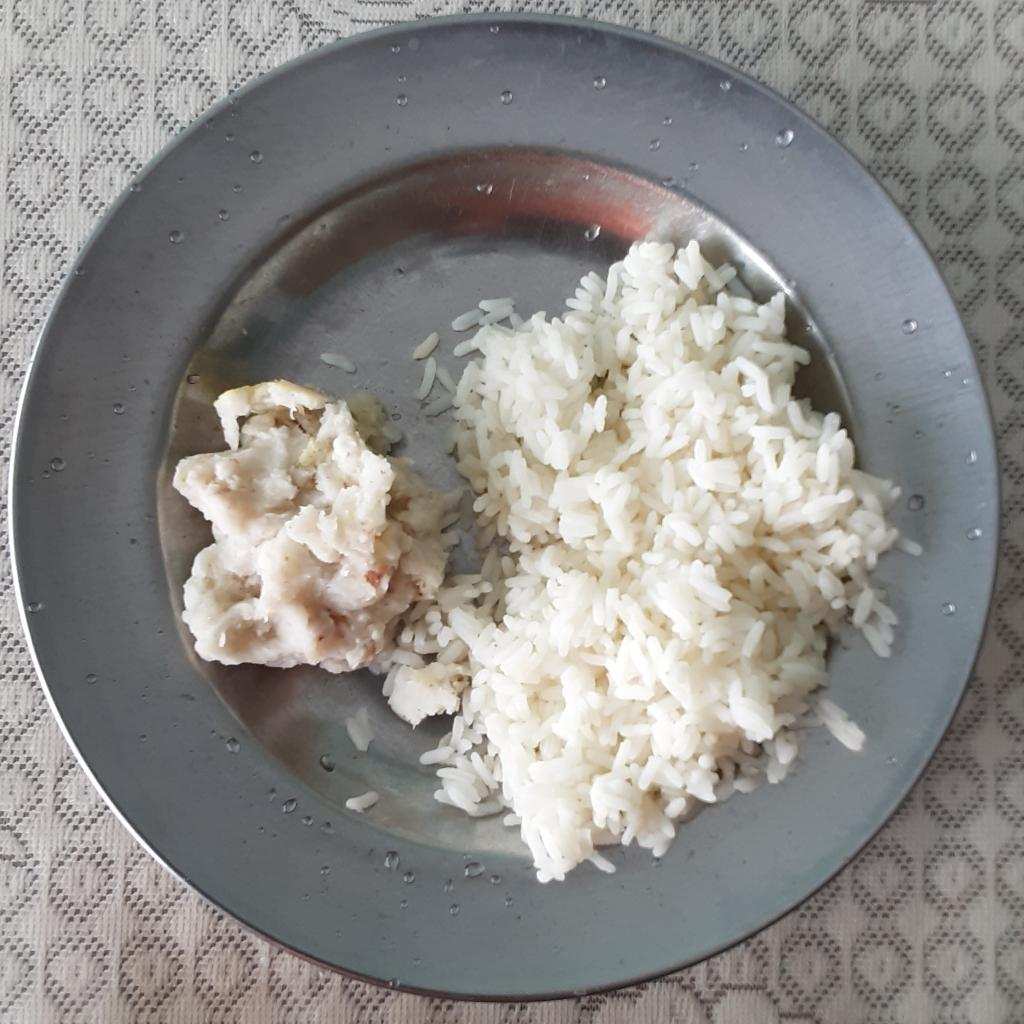potato-mashed: (172, 379, 465, 674)
rice: (370, 240, 924, 882)
